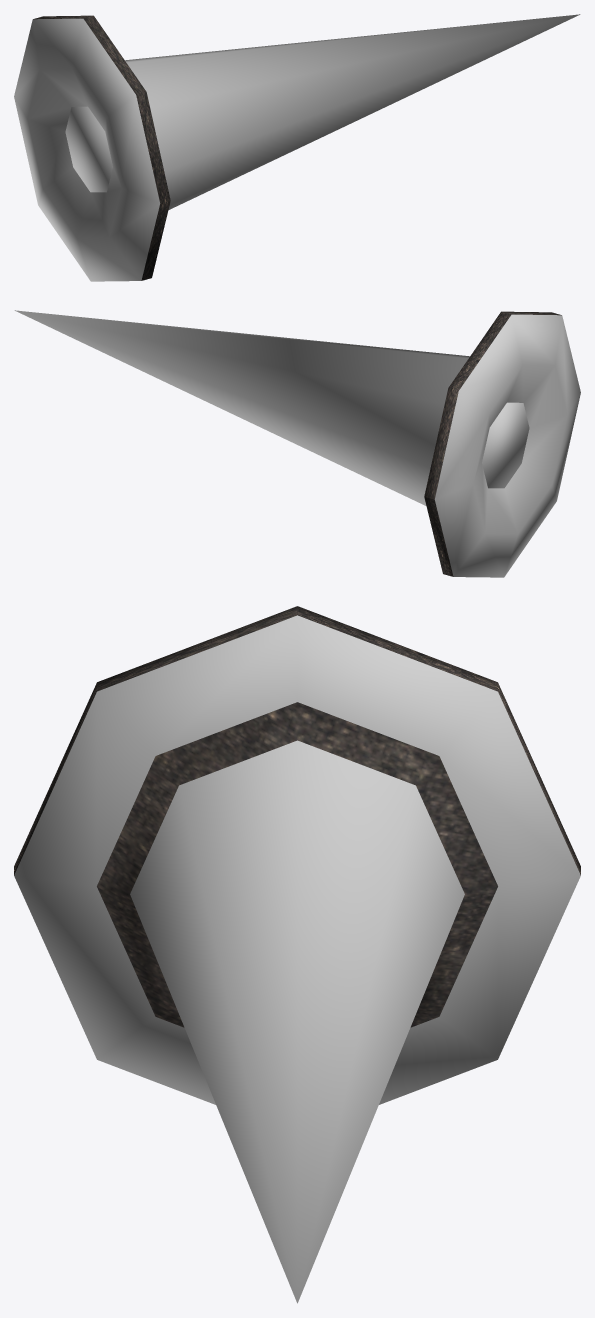
The model's file is needle.obj.
3 renders of one model, top to bottom at view 1: azimuth 30°, elevation 25°; view 2: azimuth 150°, elevation 25°; view 3: azimuth 270°, elevation 25°, orthographic. The views are drawn at different scales.
Visible parts, largest first — view 1: Cone; view 2: Cone; view 3: Cone.
Part boxes in pixels (box(x1,y1,x2,y2)): Cone: box(14, 14, 580, 281); Cone: box(14, 310, 580, 577); Cone: box(14, 606, 580, 1303).
Size of the model in its own units: 1 by 0.5004 by 0.5.
